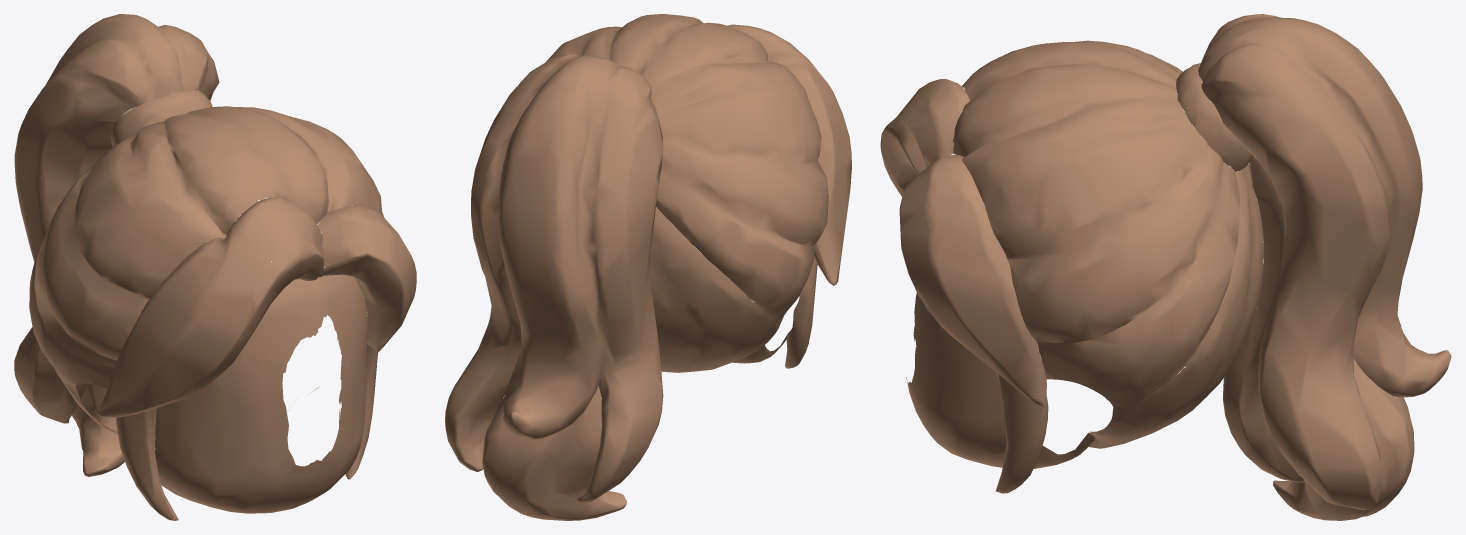
Rendered from hair_11.glb.
3 renders of one model, left to right at view 1: azimuth 30°, elevation 25°; view 2: azimuth 150°, elevation 25°; view 3: azimuth 270°, elevation 25°, orthographic. The views are drawn at different scales.
Visible parts, largest first — view 1: hair; view 2: hair; view 3: hair.
Part boxes in pixels (x1,y1,x2,y2): hair: (14, 14, 416, 520); hair: (445, 14, 851, 520); hair: (880, 14, 1451, 520).
Size of the model in its own units: 0.4722 by 0.6382 by 0.6607.
